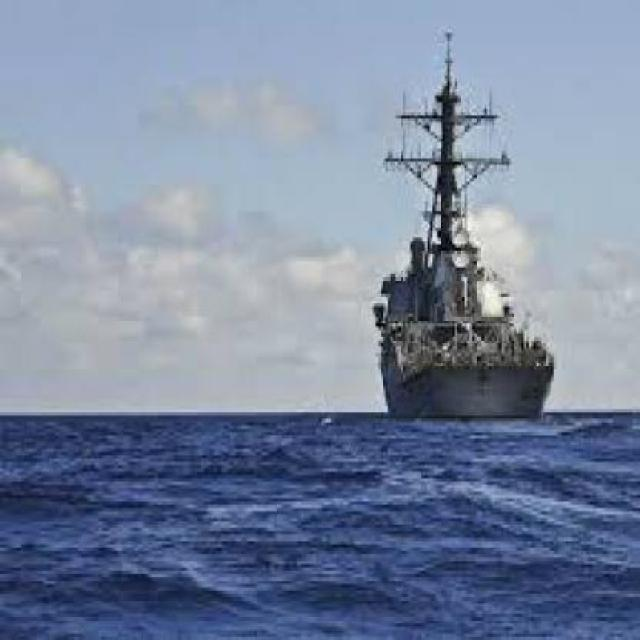warship2: (360, 17, 574, 430)
